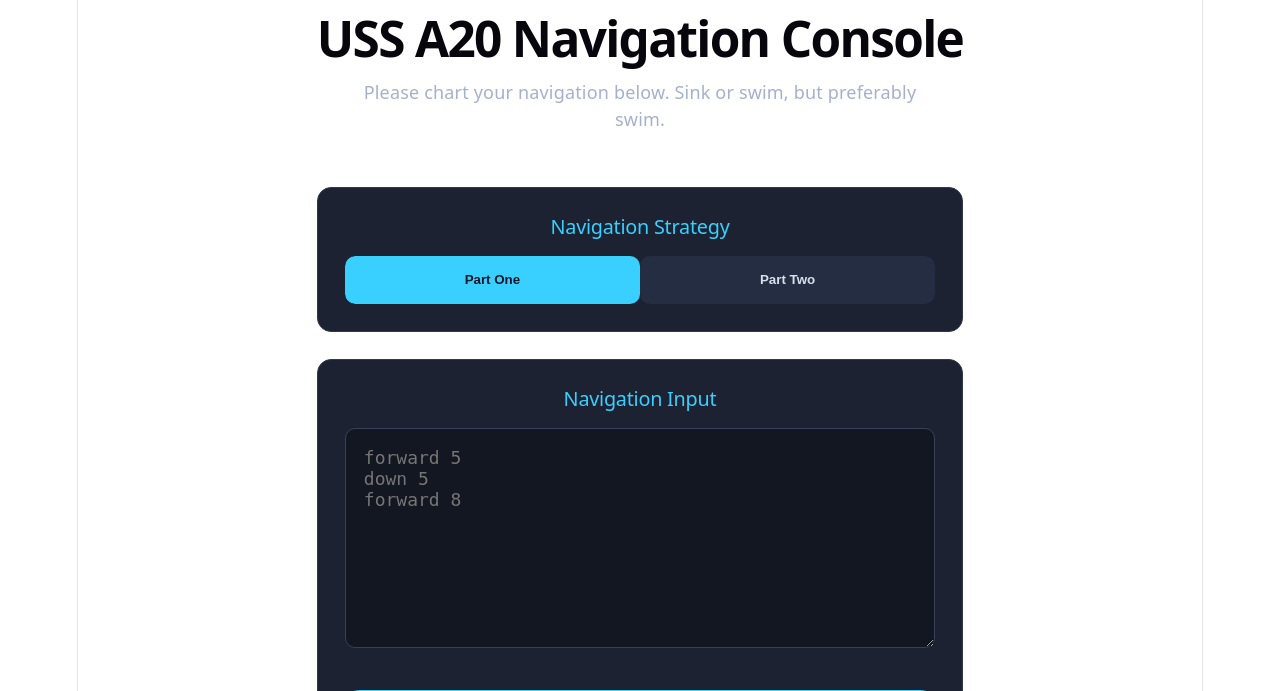
Test case: NavigationSolver › shows a fallback message for non-error exceptions
Type "forward 5" into the text box at (640, 538), box [345,428,935,648]
(page scrolled)
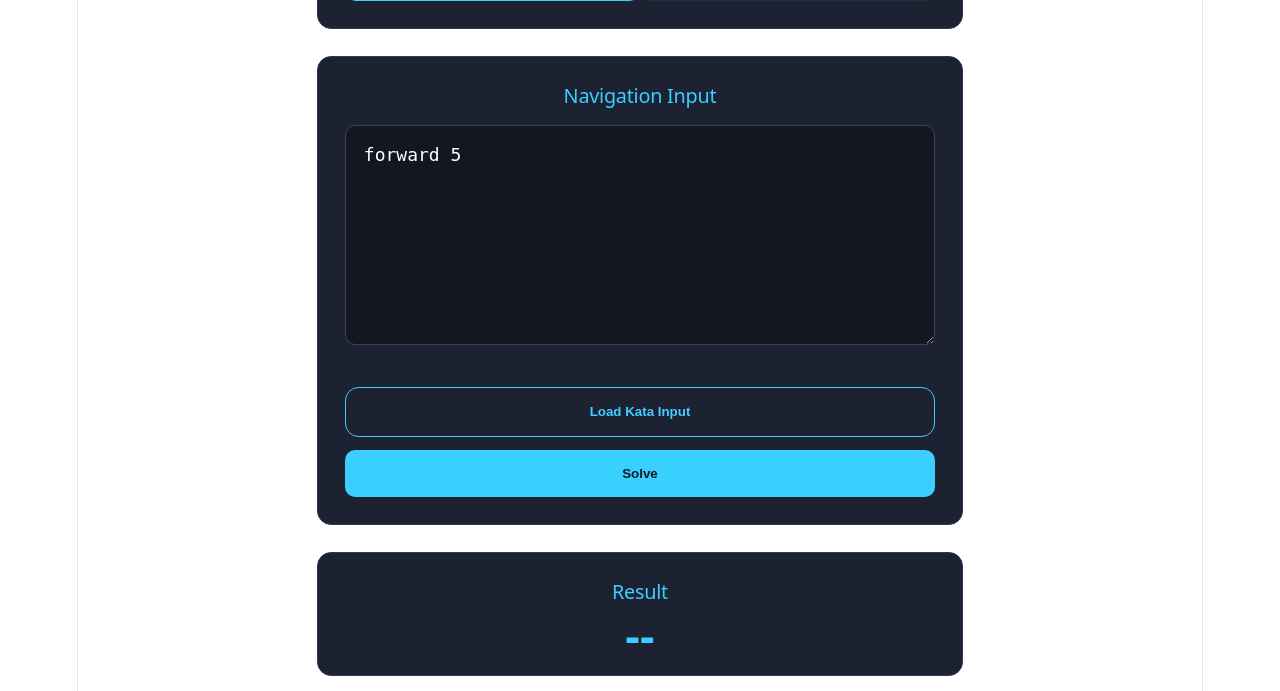
Click the button "Solve" at (640, 474), box [345,450,935,497]
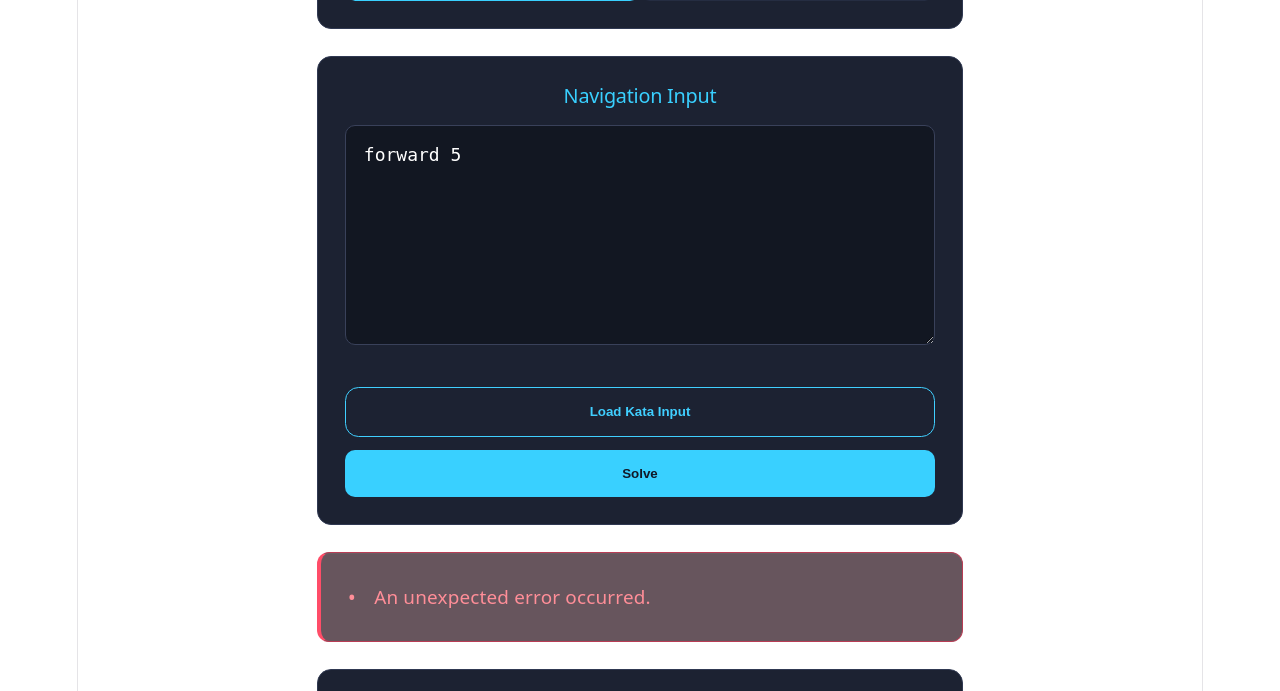
Expected: the message shows "An unexpected error occurred.", [374,584,651,610]
